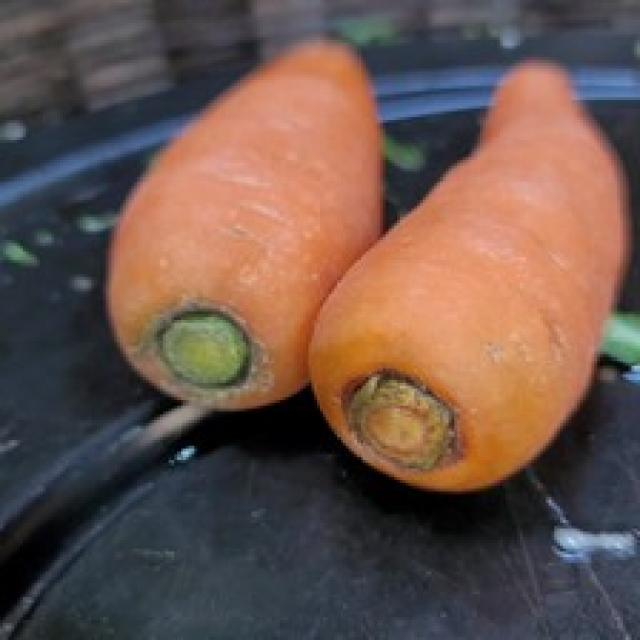carrot: (304, 50, 637, 496), (104, 41, 392, 418)
